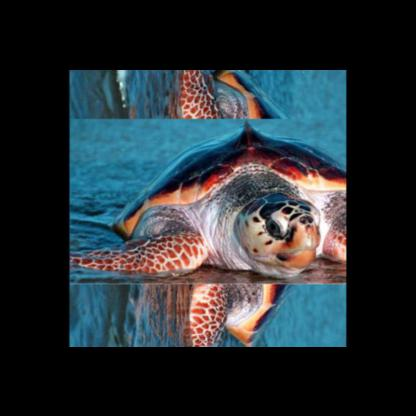turtle: (111, 68, 346, 340)
